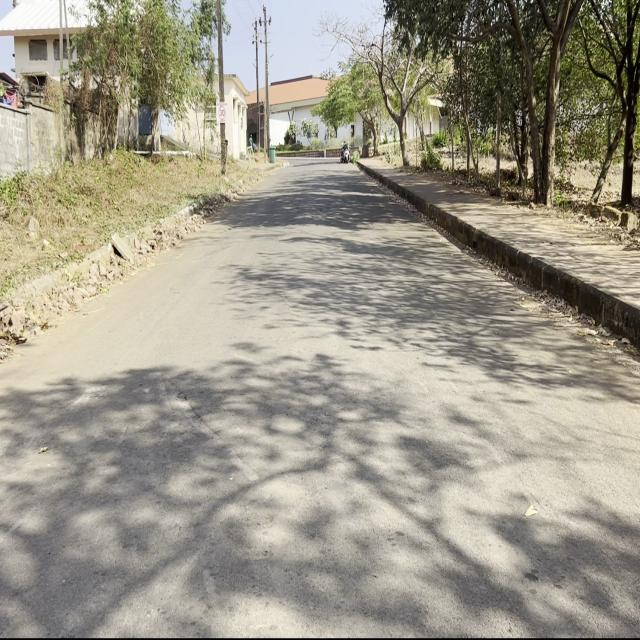Road: (3, 160, 637, 629)
